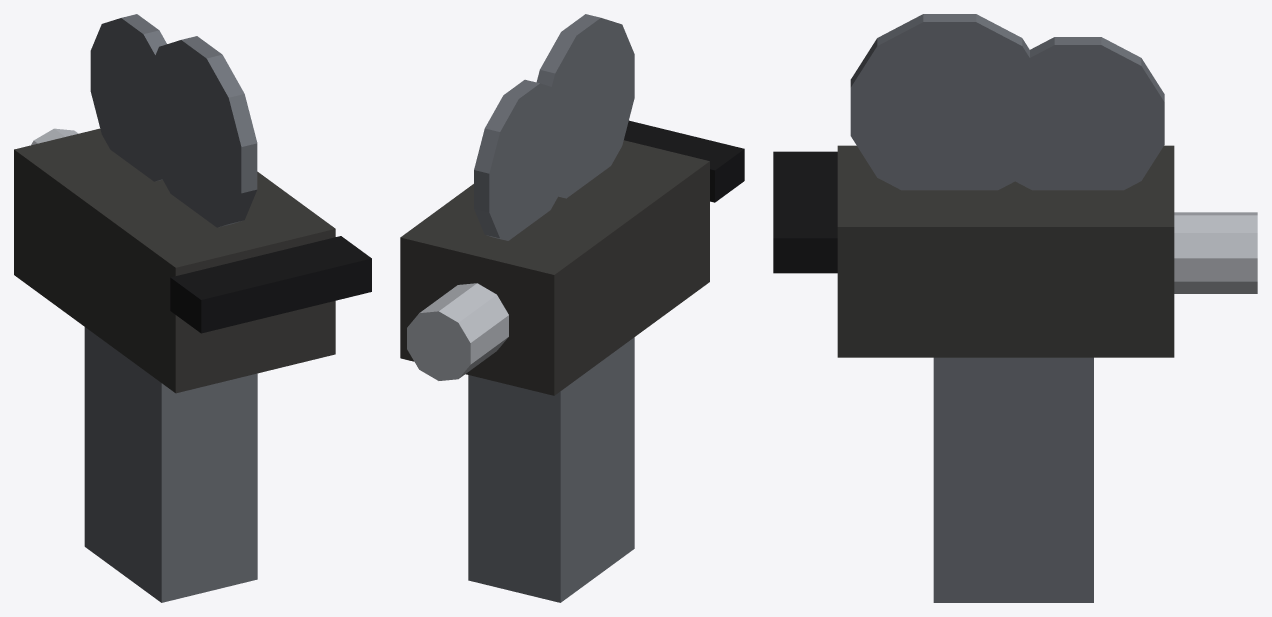
File: Projector.obj
3 renders of one model, left to right at view 1: azimuth 30°, elevation 25°; view 2: azimuth 150°, elevation 25°; view 3: azimuth 270°, elevation 25°, orthographic. The views are drawn at different scales.
Visible parts, largest first — view 1: Projector; view 2: Projector; view 3: Projector.
Part boxes in pixels (<box>): Projector: <box>14,14,371,602</box>; Projector: <box>400,14,744,602</box>; Projector: <box>773,14,1257,602</box>.
Bounding box in the file's own units: 0.64 × 1.93 × 1.51.
Materials: 1 (1 with a texture image).
